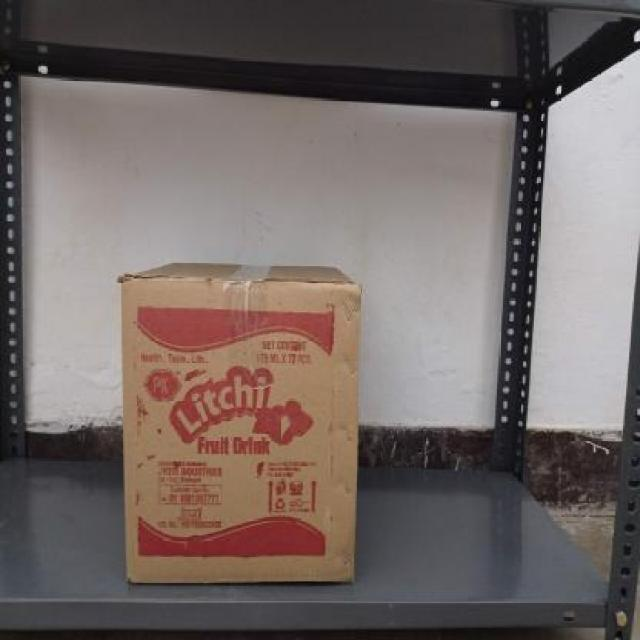box: (120, 274, 357, 583)
